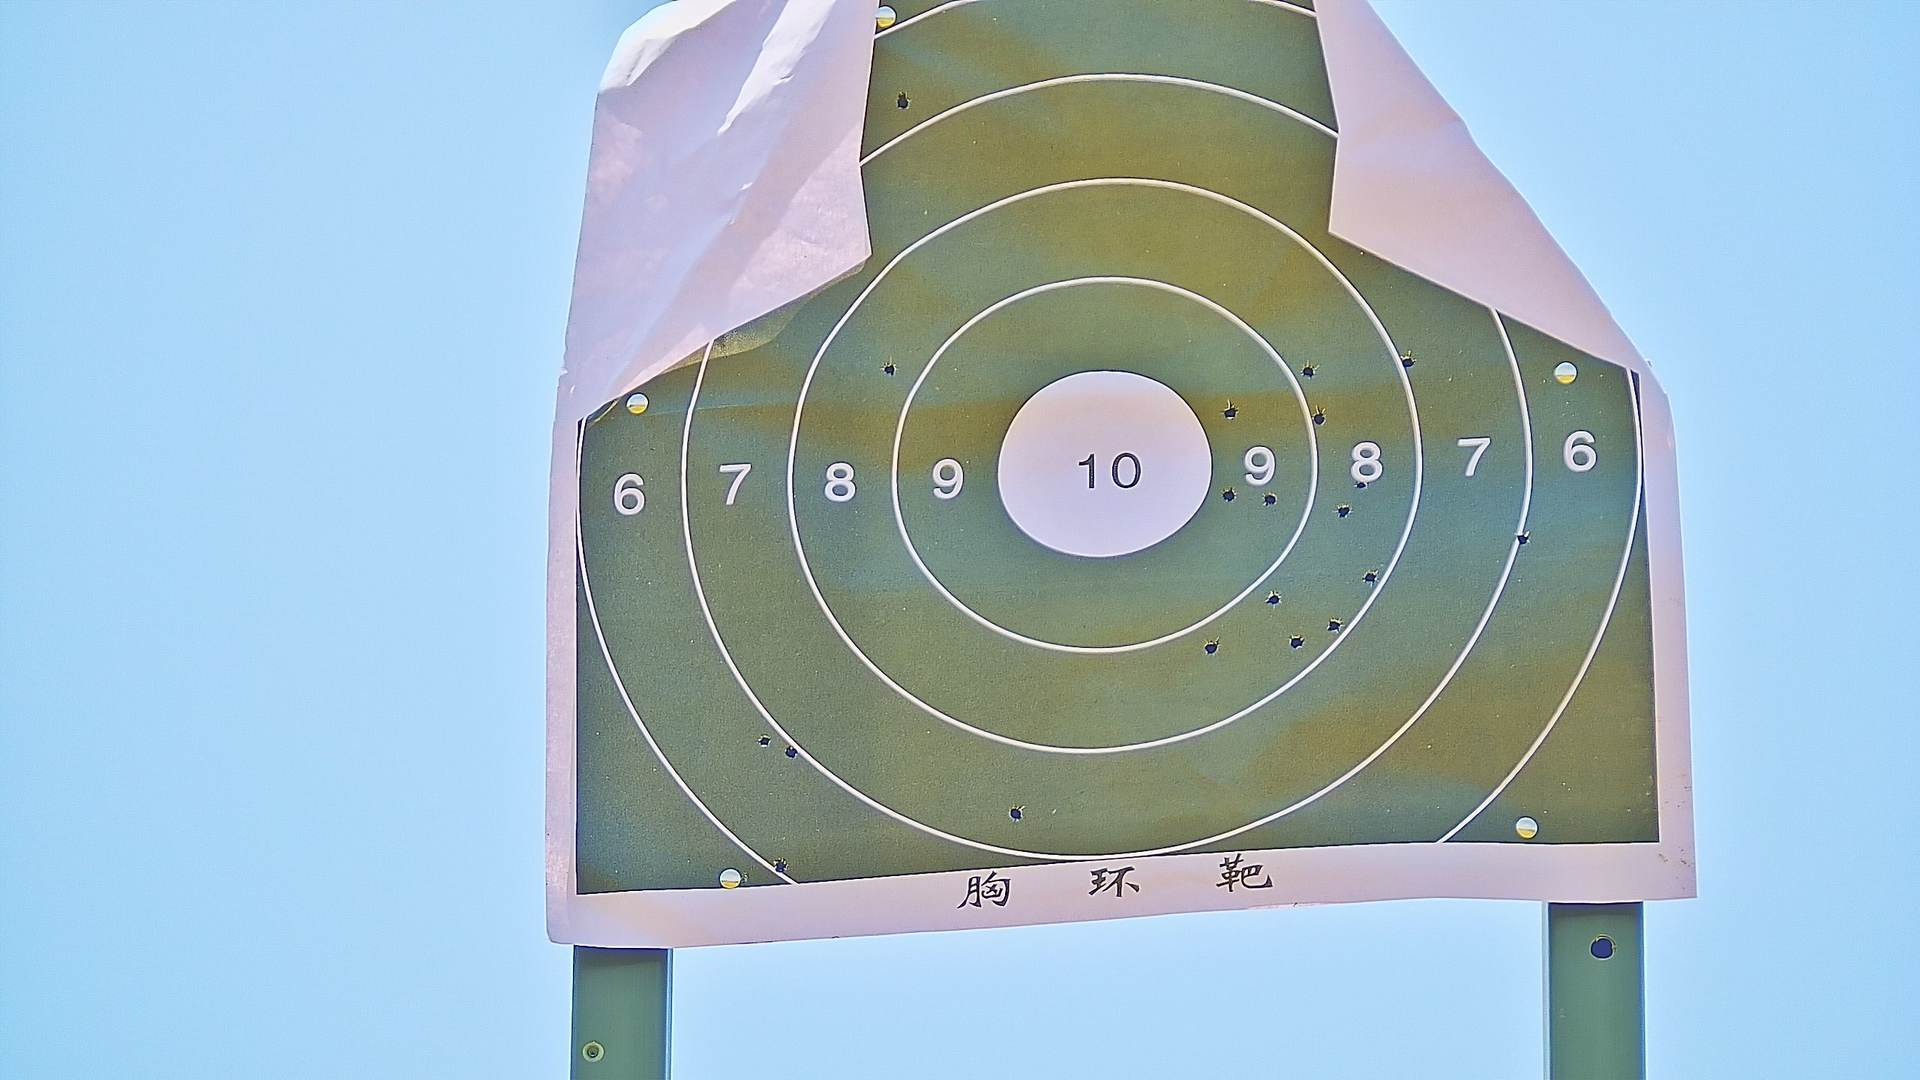hole: (895, 94, 911, 113), (881, 363, 901, 377), (1300, 363, 1316, 378), (1402, 353, 1418, 369), (1205, 638, 1220, 655), (1222, 404, 1237, 419), (1221, 487, 1236, 501), (1313, 410, 1328, 425), (1010, 806, 1026, 819), (1265, 491, 1278, 506), (1267, 591, 1280, 607), (1365, 568, 1377, 585), (1291, 634, 1305, 647), (1337, 502, 1348, 520), (1327, 616, 1340, 629), (1516, 531, 1530, 545), (771, 857, 786, 869), (1356, 477, 1367, 491), (758, 735, 770, 745), (783, 746, 795, 757)
kernel: (1100, 469, 1109, 476)
target: (575, 3, 1662, 907)
ten: (997, 369, 1212, 562)
